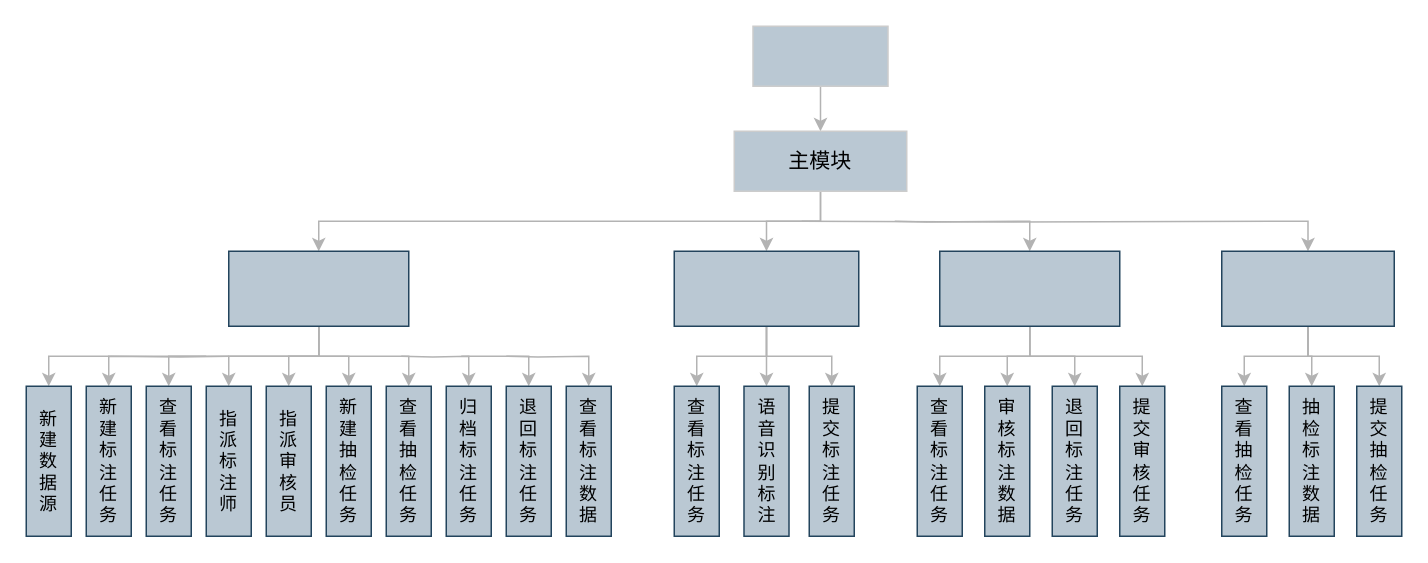
The diagram is 1428 pixels wide and 563 high, and some of its shapes have lost their labels. The shapes that lost their labels are listed below. From the top down, each one's box as (x1, y1, x2, y2) in pixels, then its label:
(752, 25, 888, 86): 统一登录模块
(227, 250, 409, 326): 管理员
(673, 250, 859, 326): 标注师
(938, 250, 1120, 326): 审核员
(1220, 250, 1394, 326): 抽检员
